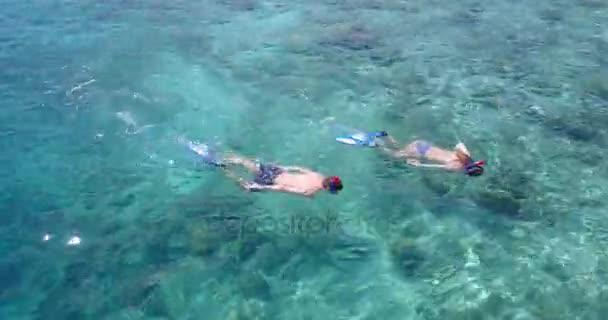swimmer: (200, 142, 344, 198), (372, 130, 485, 178)
